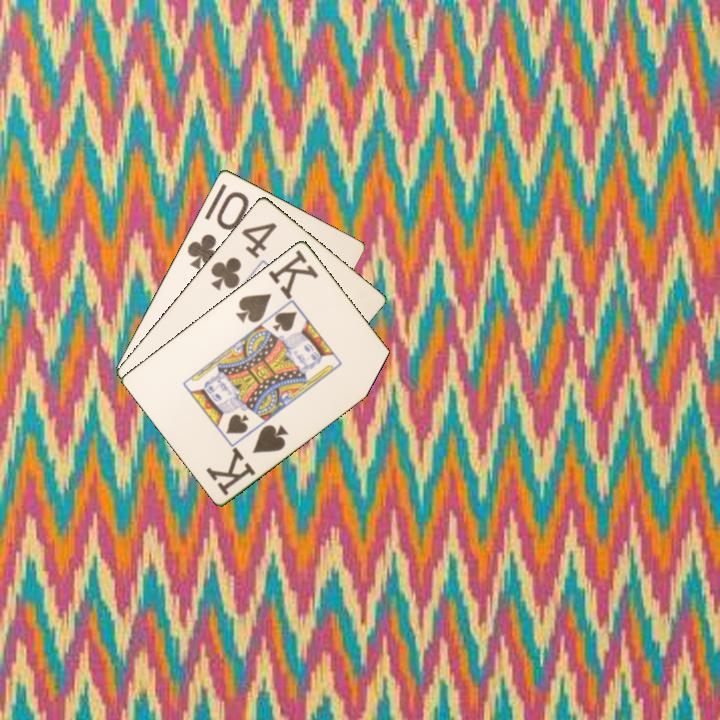10c: (183, 187, 252, 272)
4c: (207, 218, 280, 293)
Ks: (231, 246, 321, 326), (202, 420, 292, 498)
